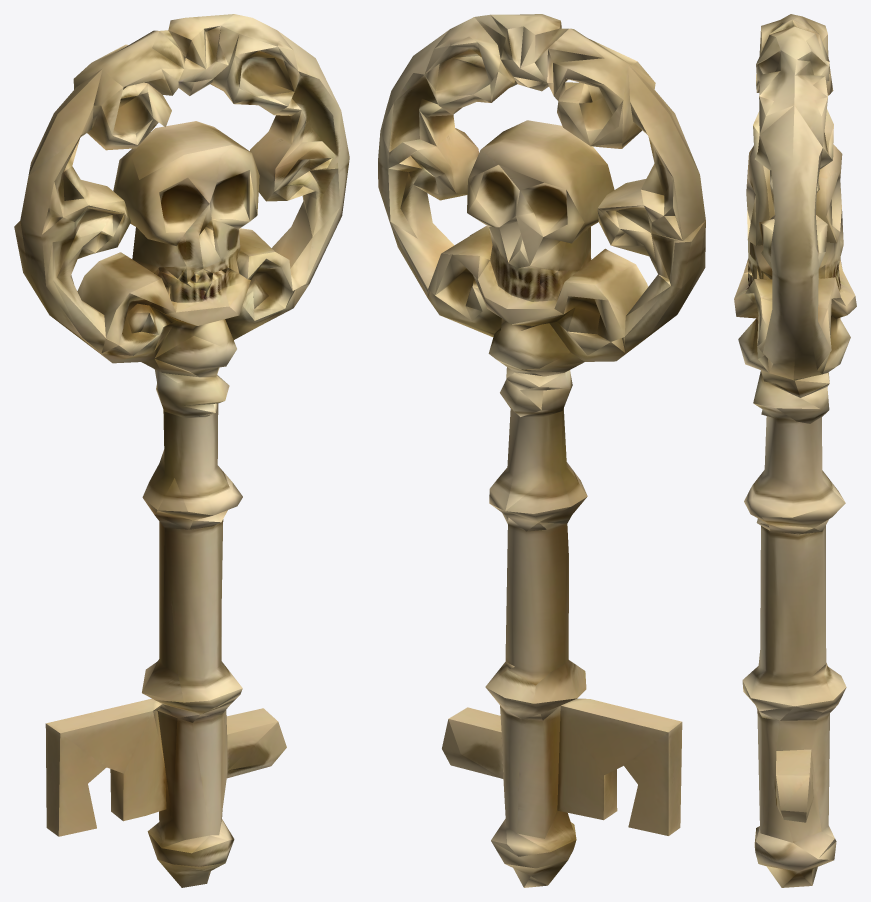
File: skeletonKey.glb
3 views of the same model, side by side, from view 1: azimuth 30°, elevation 25°; view 2: azimuth 150°, elevation 25°; view 3: azimuth 270°, elevation 25° (orthographic).
Parts seen in each view (by area): view 1: model; view 2: model; view 3: model.
Boxes of the visible parts, x1,y1,x2,y2 form: model: (14, 14, 349, 887); model: (378, 14, 705, 887); model: (734, 14, 856, 887).
Size of the model in its own units: 0.749 by 1.9 by 0.2473.
1 material, 1 textured.
